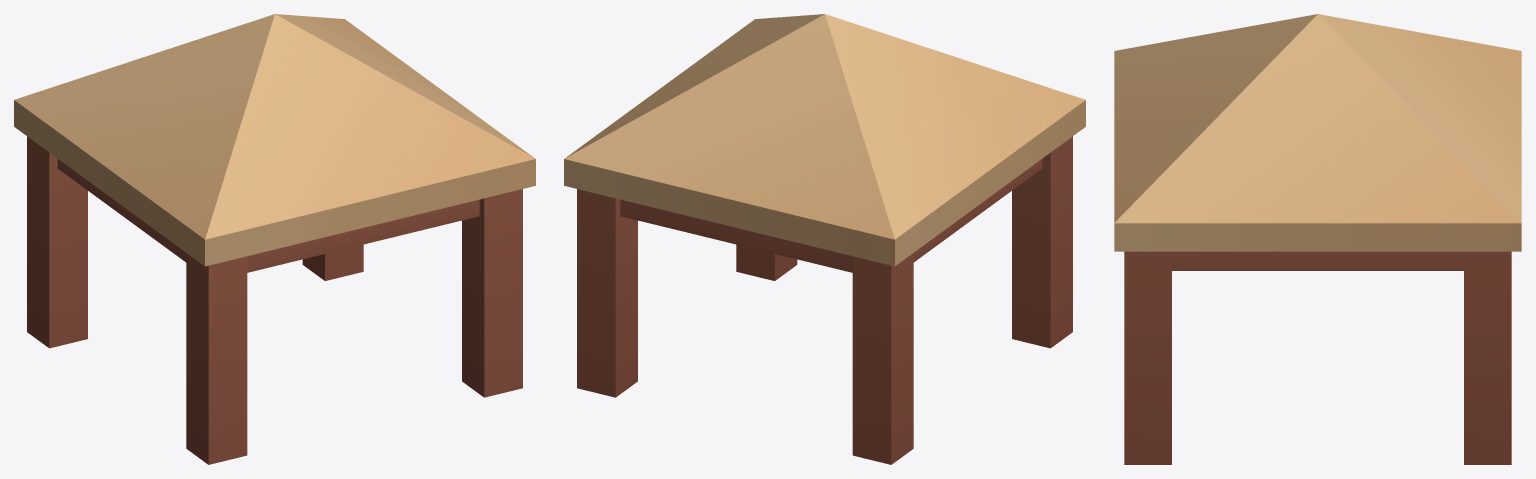
File: d_kaykit_tente.glb
The picture shows the model from 3 angles, left to right: view 1: azimuth 30°, elevation 25°; view 2: azimuth 150°, elevation 25°; view 3: azimuth 270°, elevation 25°; orthographic projection. The views are drawn at different scales.
Parts seen in each view (by area): view 1: d_kaykit_tente; view 2: d_kaykit_tente; view 3: d_kaykit_tente.
Boxes of the visible parts, x1,y1,x2,y2 form: d_kaykit_tente: [14, 14, 535, 464]; d_kaykit_tente: [564, 14, 1085, 464]; d_kaykit_tente: [1114, 14, 1521, 464].
Size of the model in its own units: 0.516 by 0.516 by 0.516.
Materials: 1 (1 with a texture image).
